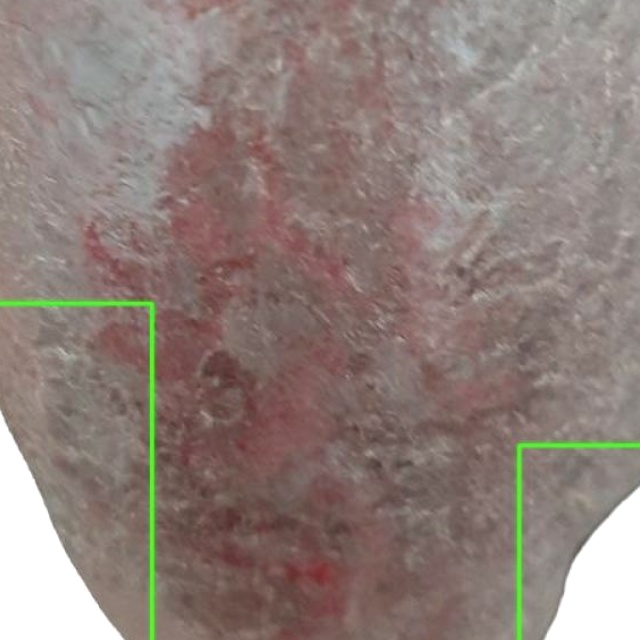Contact Dermatitis: (0, 303, 152, 639), (517, 446, 639, 639)
